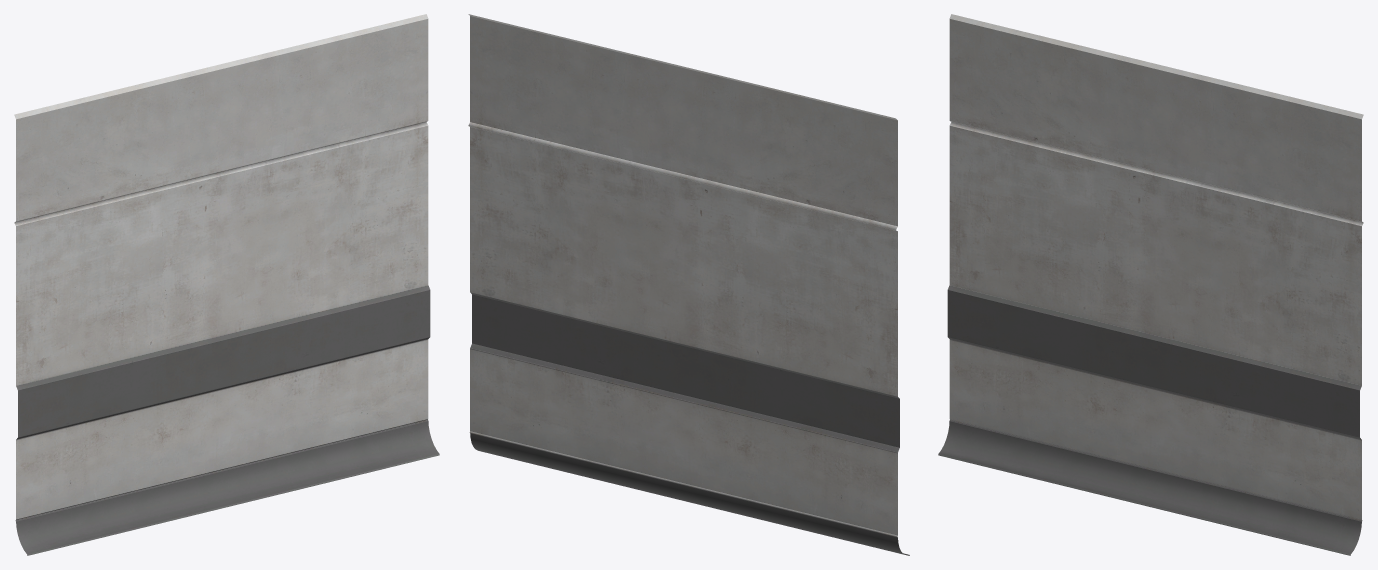
The model's file is hospital_corridor_default.dae.
The picture shows the model from 3 angles, left to right: view 1: azimuth 30°, elevation 25°; view 2: azimuth 150°, elevation 25°; view 3: azimuth 330°, elevation 25°; orthographic projection. The views are drawn at different scales.
Parts seen in each view (by area): view 1: default; view 2: default; view 3: default.
Boxes of the visible parts, x1,y1,x2,y2 form: default: [14, 14, 439, 555]; default: [468, 14, 909, 555]; default: [938, 14, 1363, 555].
Bounding box in the file's own units: 4 × 4 × 0.2227.
